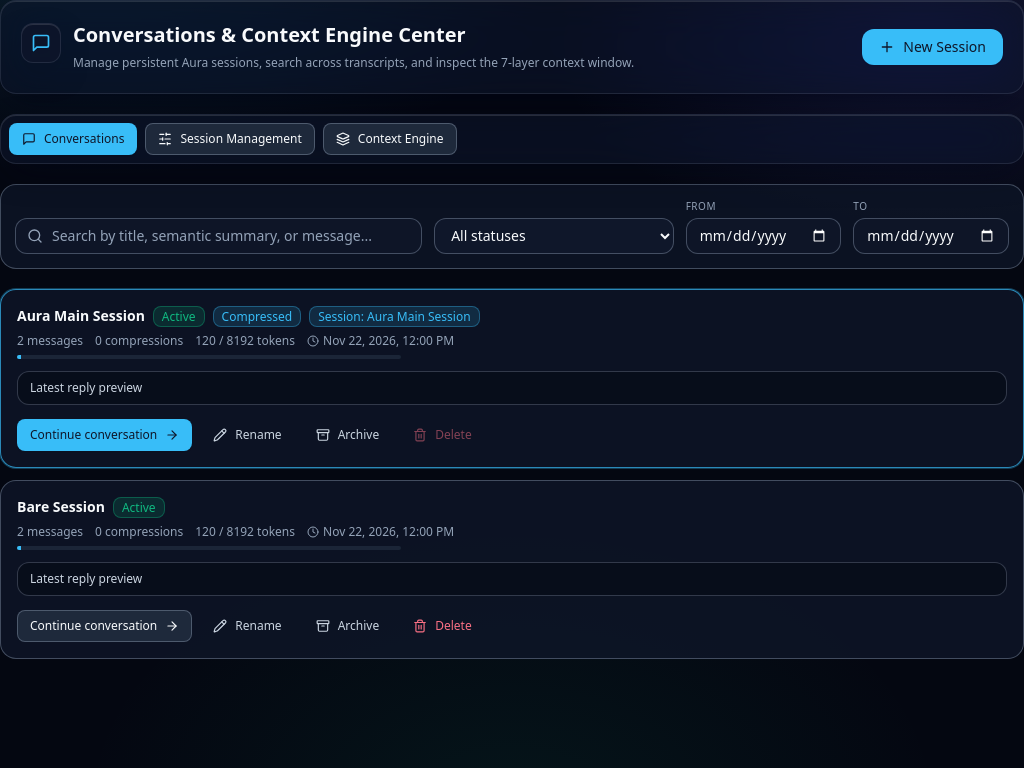
SessionsCenterPage › displays Management tab metadata, memories/tools badges, raw transcript, and history states
Expected: the element with test id "session-card-default" is shown, [0,288,1023,468]
Click the tab with test id "sessions-tab-management" at (230, 138), box [145,122,315,154]
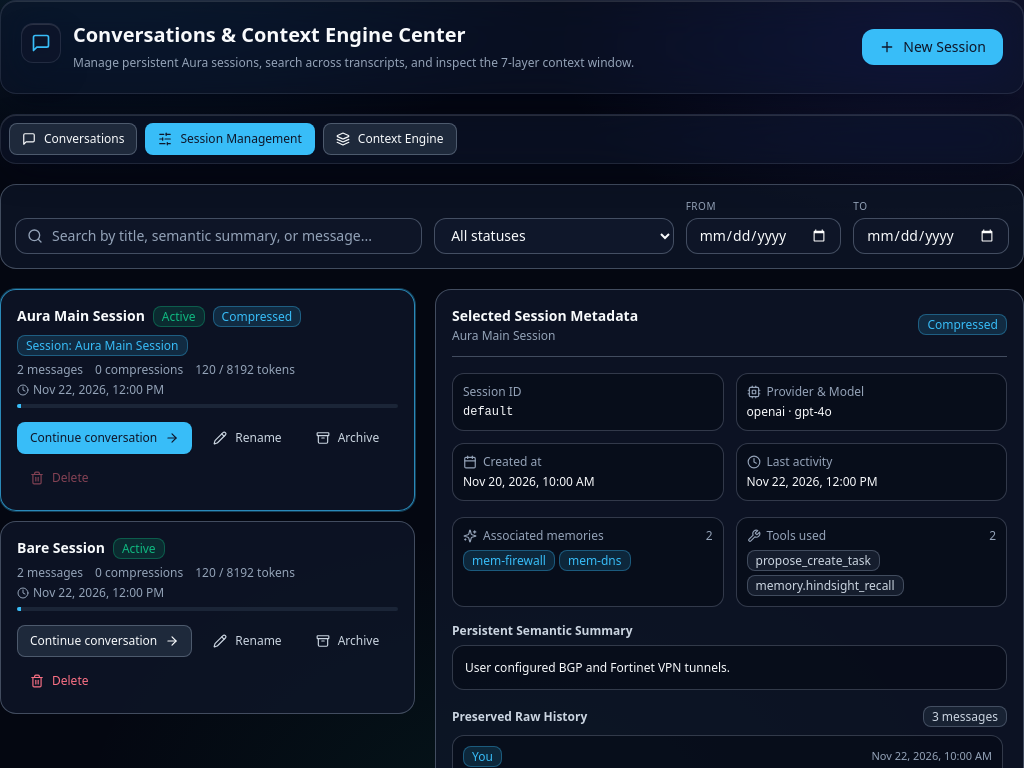
Expected: the element with test id "sessions-management-list" is shown, [0,288,415,714]
Expected: the text with test id "meta-session-id" reads "default", [463,404,513,418]
Expected: the text with test id "meta-session-provider" reads "openai · gpt-4o", [746,402,832,420]
Click the button with test id "session-select-s-bare" at (61, 548), box [17,538,105,558]
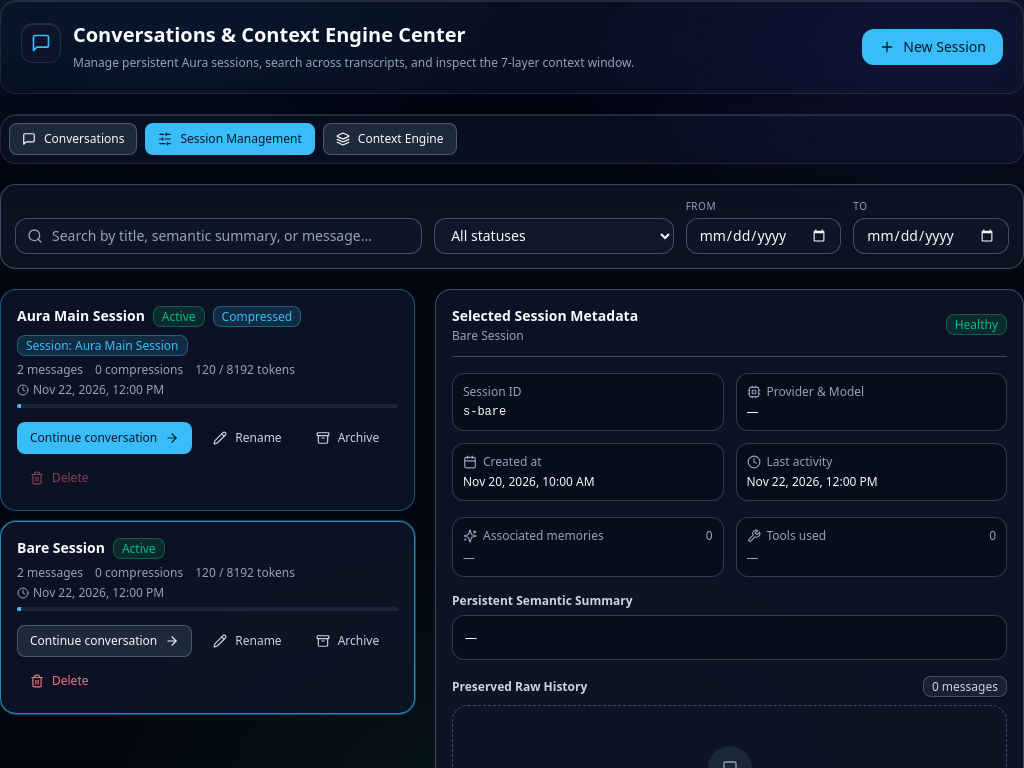
Expected: the text with test id "meta-session-id" reads "s-bare", [463,404,506,418]
Expected: the text with test id "meta-session-provider" reads "—", [746,402,758,420]
Expected: the text with test id "meta-session-summary" reads "—", [465,628,477,646]
Click the button with test id "session-select-default" at (81, 316), box [17,306,145,326]
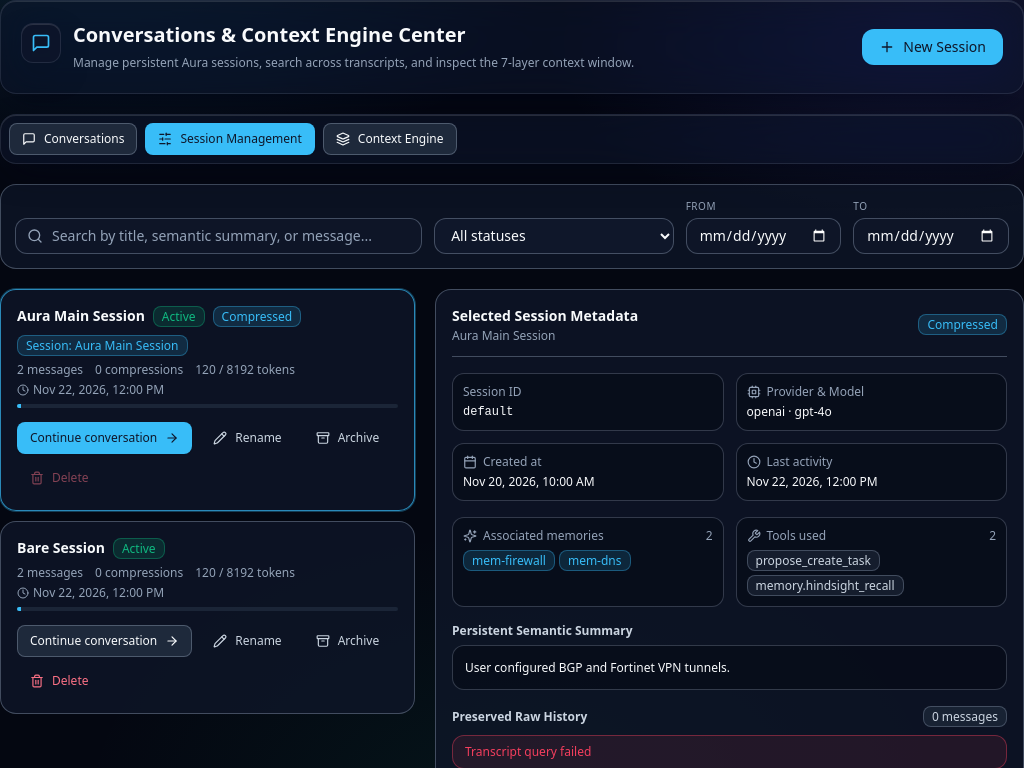
Expected: the message reads "Transcript query failed", [465,743,591,760]
